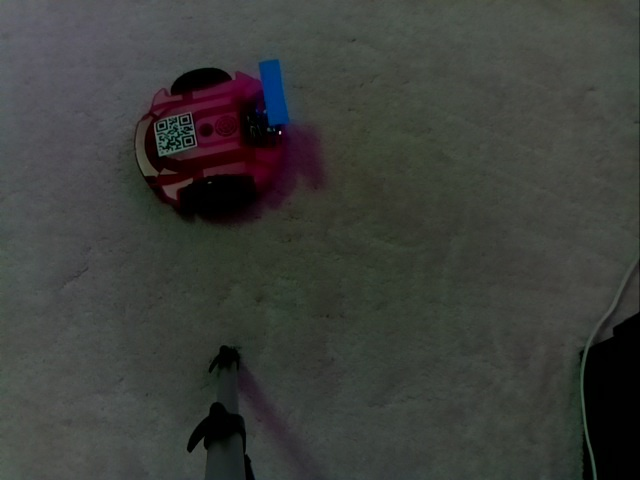chassis: (133, 54, 293, 218)
qr: (152, 113, 199, 159)
